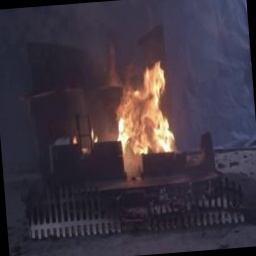fire: (107, 53, 181, 165)
